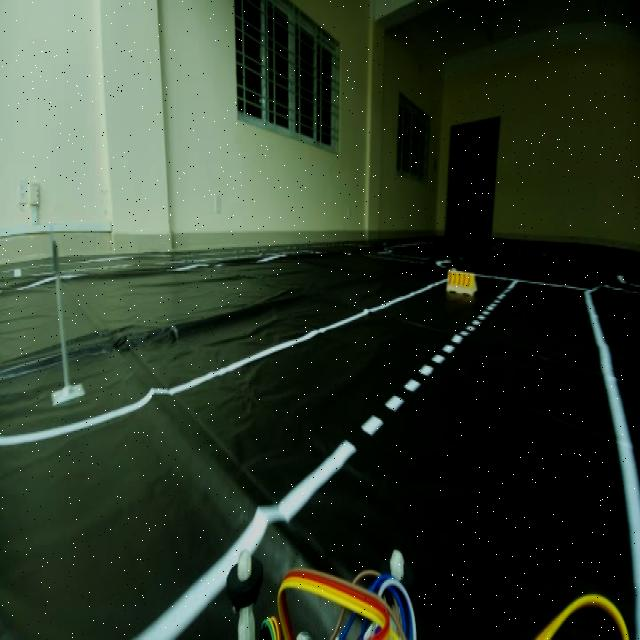roadblock: (443, 258, 478, 306)
